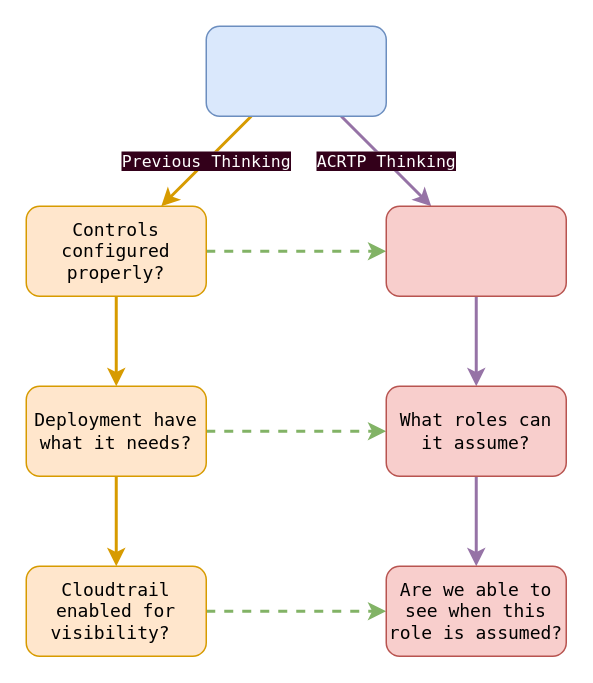
Some shapes in this 593 by 683 pixel diagram are drawn without their labels. Each missing label, with the centre of its shape:
CI/CD Pipeline with IAM Role: [295,70]
If compromised, what can it do?: [475,250]
